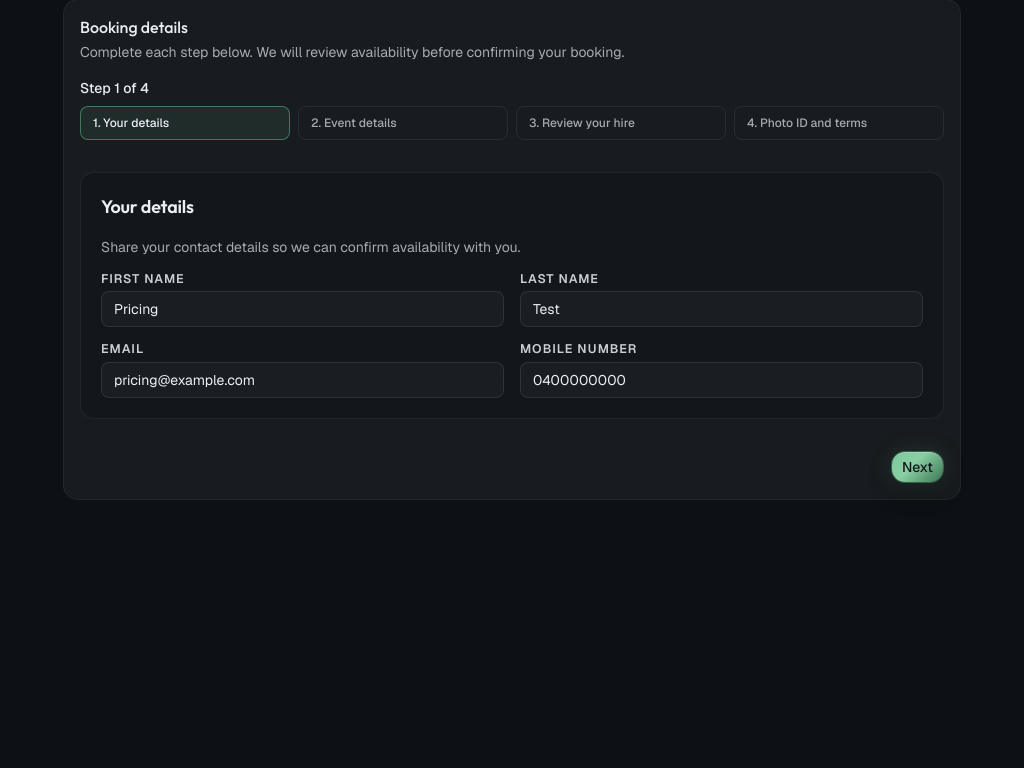
BookingForm › restores contact details under Strict Mode and uses only cart dates
Expected: the field labelled "First name" holds "Pricing", top-left (101, 292), bottom-right (504, 328)
Step 1. Click the button "Next" → (917, 467), box top-left (891, 451), bottom-right (944, 483)
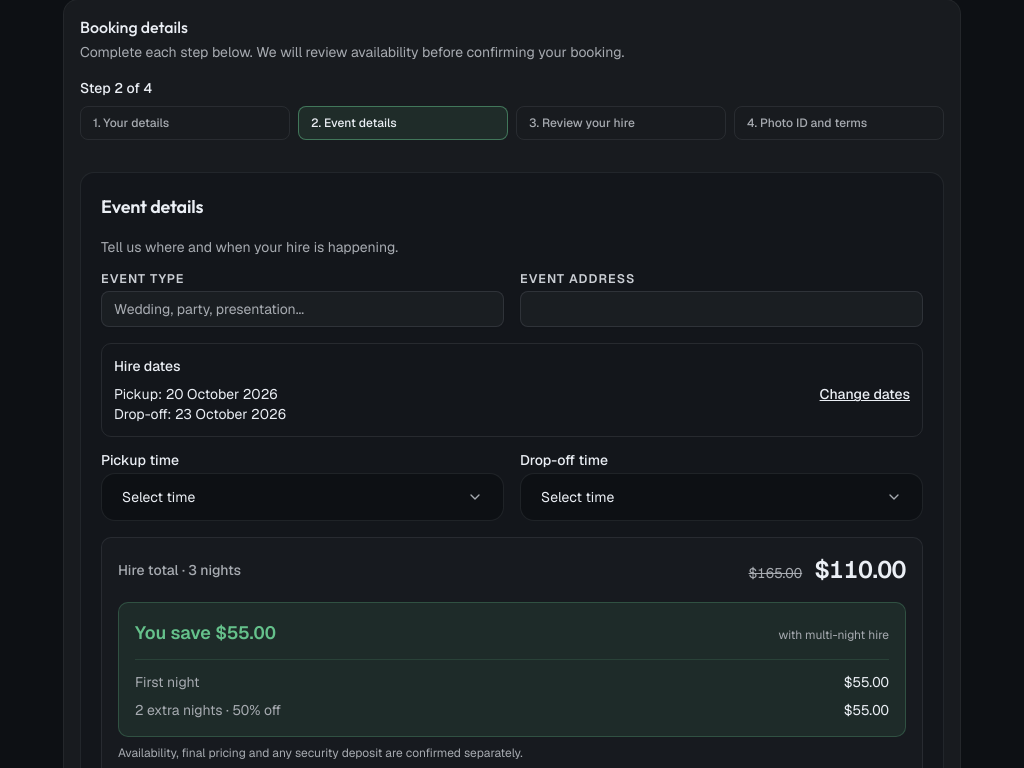
Now the text "Hire total · 3 nights" is shown, box top-left (118, 560), bottom-right (241, 580)
